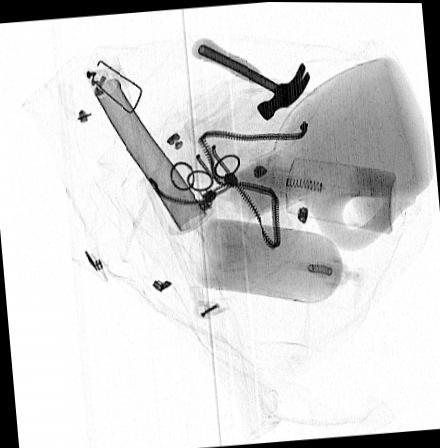Hammer: (191, 37, 311, 119)
